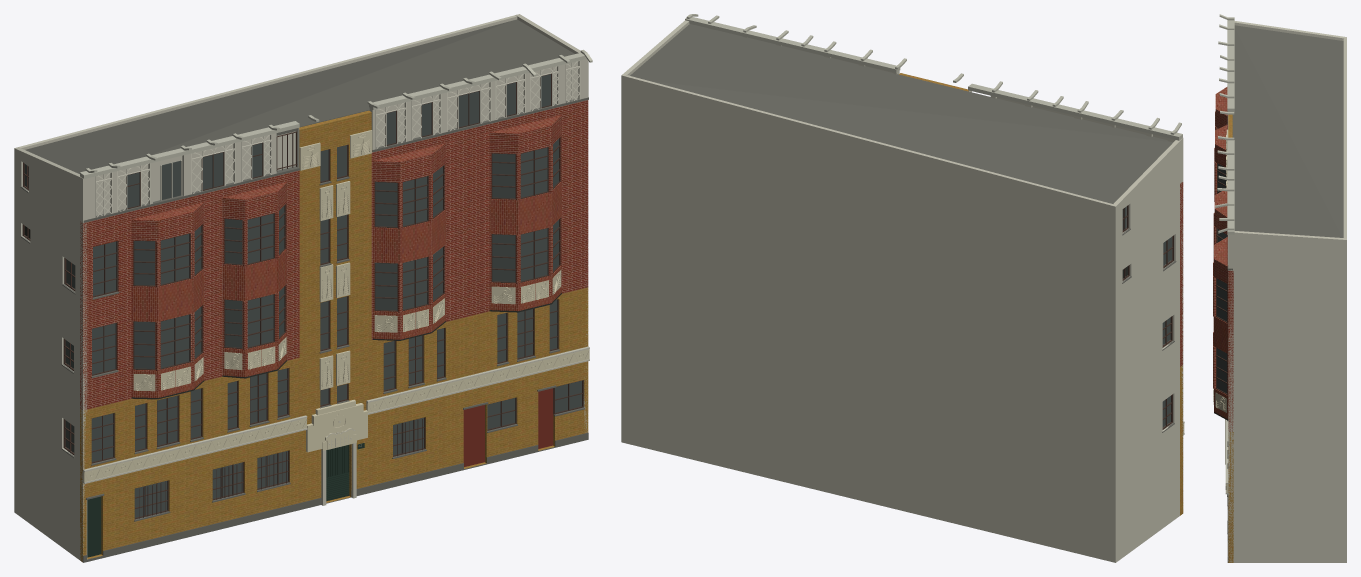
The model's file is xuhui-wanping-42-brick-window-bays-web.glb.
3 views of the same model, side by side, from view 1: azimuth 30°, elevation 25°; view 2: azimuth 150°, elevation 25°; view 3: azimuth 270°, elevation 25° (orthographic). The views are drawn at different scales.
Visible parts, largest first — view 1: 宛平路42号住宅双色砖墙与卷叶凸窗; view 2: 宛平路42号住宅双色砖墙与卷叶凸窗; view 3: 宛平路42号住宅双色砖墙与卷叶凸窗.
Part boxes in pixels (<box>): 宛平路42号住宅双色砖墙与卷叶凸窗: <box>14,14,592,562</box>; 宛平路42号住宅双色砖墙与卷叶凸窗: <box>621,14,1184,562</box>; 宛平路42号住宅双色砖墙与卷叶凸窗: <box>1213,14,1346,562</box>.
Bounding box in the file's own units: 21.62 × 16.09 × 5.75.
13 materials, 3 textured.
